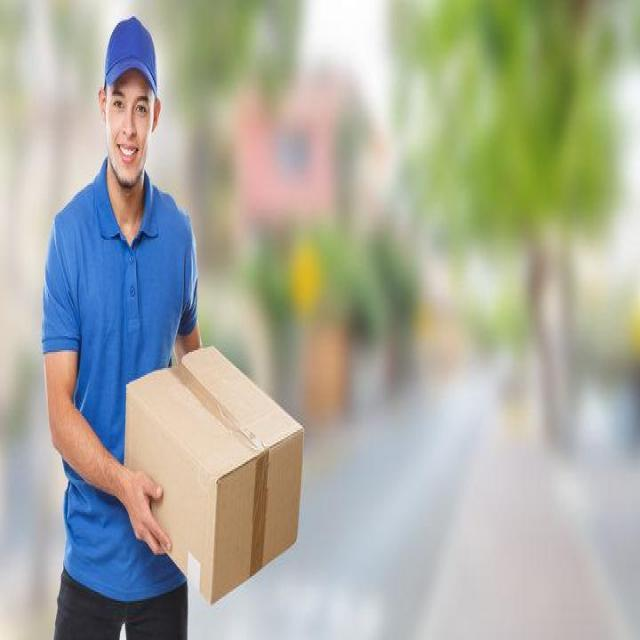box: (121, 336, 307, 610)
